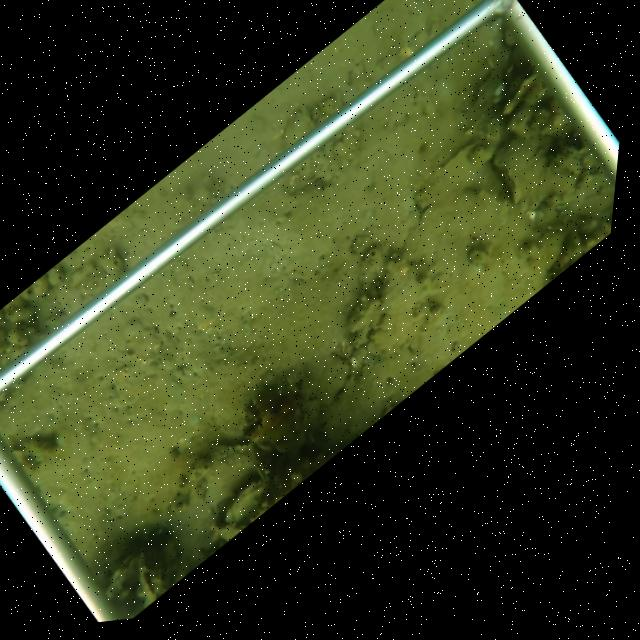Oyster-Closed: (491, 152, 525, 208), (251, 456, 271, 489)
Oyster-Indeterminate: (362, 254, 434, 359)
